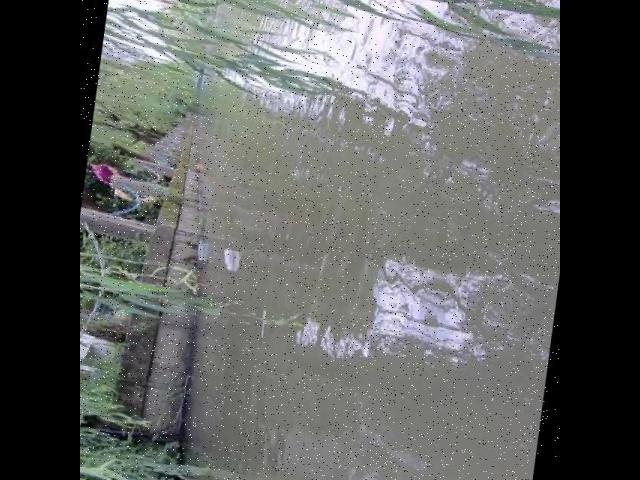Bottle: (194, 234, 210, 270)
Waste: (220, 243, 244, 274)
